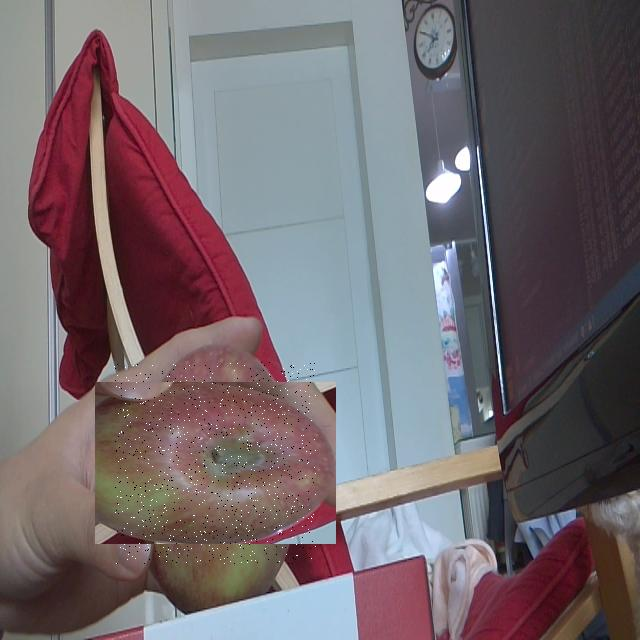apple: (115, 362, 316, 564)
